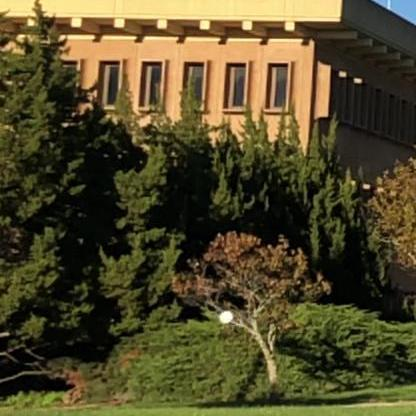golfball: (215, 306, 232, 323)
